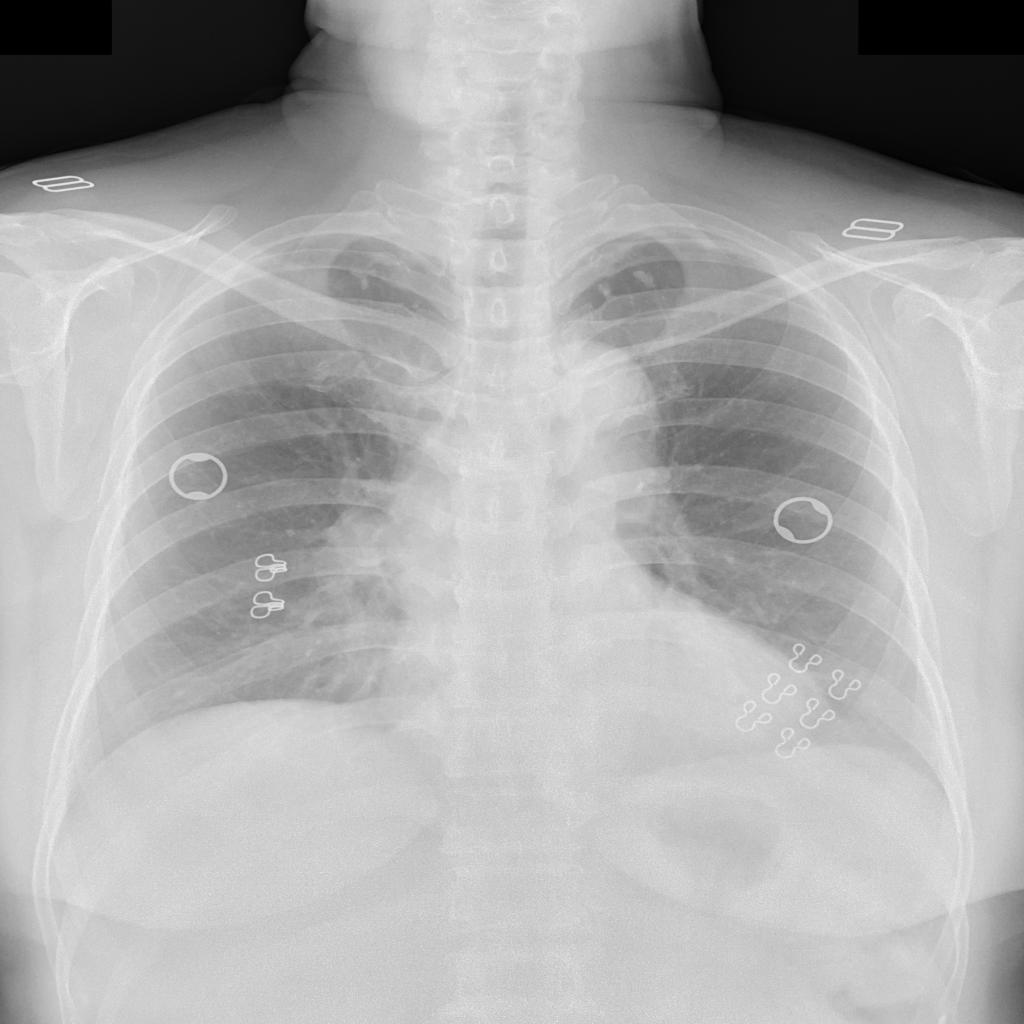Nodule: (631, 269, 657, 287), (596, 283, 613, 301)
